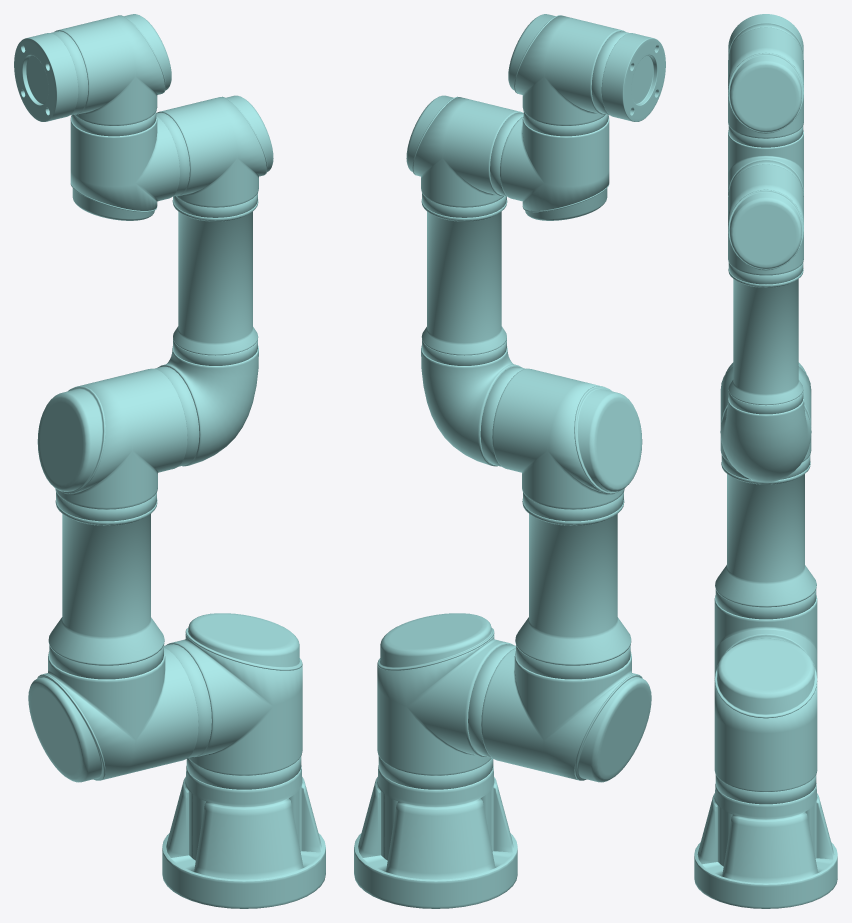
The model's file is obj_arm.obj.
The picture shows the model from 3 angles, left to right: view 1: azimuth 30°, elevation 25°; view 2: azimuth 150°, elevation 25°; view 3: azimuth 270°, elevation 25°; orthographic projection. The views are drawn at different scales.
Visible parts, largest first — view 1: Arm_01, Arm_08, Arm_05, Arm_03, Arm_07, Arm_12, Arm_16, Arm_14, Arm_18, Arm_10, Arm_20, Arm_02 (+8 smaller); view 2: Arm_01, Arm_08, Arm_05, Arm_03, Arm_07, Arm_12, Arm_16, Arm_14, Arm_18, Arm_10, Arm_20, Arm_02 (+8 smaller); view 3: Arm_03, Arm_01, Arm_07, Arm_12, Arm_14, Arm_18, Arm_10, Arm_05, Arm_16, Arm_08, Arm_02, Arm_06 (+4 smaller).
Part boxes in pixels (<box>): Arm_01: <box>162,765,325,908</box>; Arm_08: <box>37,368,187,521</box>; Arm_05: <box>28,647,198,782</box>; Arm_03: <box>166,613,302,775</box>; Arm_07: <box>48,499,164,665</box>; Arm_12: <box>172,199,258,355</box>; Arm_16: <box>70,116,179,220</box>; Arm_14: <box>156,95,273,207</box>; Arm_18: <box>54,14,171,125</box>; Arm_10: <box>157,345,258,466</box>; Arm_20: <box>14,33,78,121</box>; Arm_02: <box>186,756,301,789</box>; Arm_01: <box>354,765,517,908</box>; Arm_08: <box>492,368,642,521</box>; Arm_05: <box>481,647,651,782</box>; Arm_03: <box>377,613,513,775</box>; Arm_07: <box>515,499,631,665</box>; Arm_12: <box>421,199,507,355</box>; Arm_16: <box>500,116,609,220</box>; Arm_14: <box>406,95,523,207</box>; Arm_18: <box>508,14,625,125</box>; Arm_10: <box>421,345,522,466</box>; Arm_20: <box>601,33,665,121</box>; Arm_02: <box>378,756,493,789</box>; Arm_03: <box>714,638,817,791</box>; Arm_01: <box>694,783,837,908</box>; Arm_07: <box>715,461,816,607</box>; Arm_12: <box>728,269,803,405</box>; Arm_14: <box>728,164,803,275</box>; Arm_18: <box>728,27,803,138</box>; Arm_10: <box>720,397,811,482</box>; Arm_05: <box>714,595,817,677</box>; Arm_16: <box>728,130,803,196</box>; Arm_08: <box>720,362,811,479</box>; Arm_02: <box>715,775,816,804</box>; Arm_06: <box>715,589,816,619</box>.
Size of the model in its own units: 9.36 by 28.32 by 4.75.
